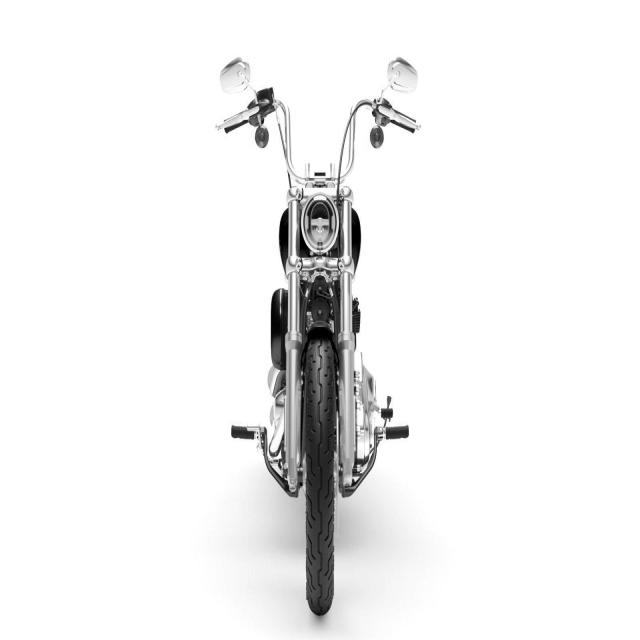Motorcycle: (218, 88, 420, 614)
